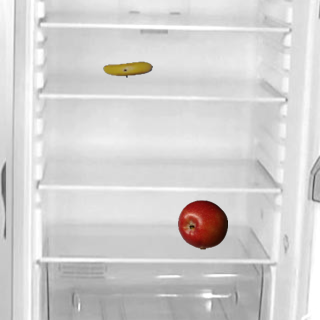Apple Braeburn: (177, 199, 227, 249)
Banana: (102, 44, 152, 94)
